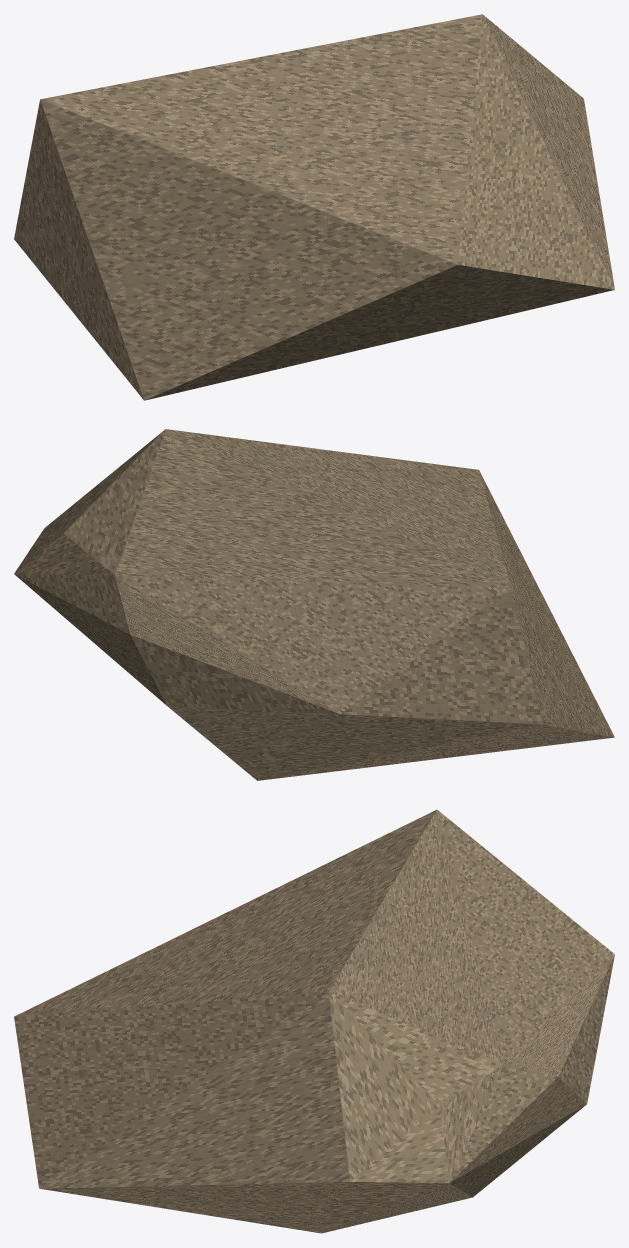
The model's file is rock_large.glb.
The picture shows the model from 3 angles, top to bottom: view 1: azimuth 30°, elevation 25°; view 2: azimuth 150°, elevation 25°; view 3: azimuth 270°, elevation 25°; orthographic projection. The views are drawn at different scales.
Visible parts, largest first — view 1: block_rock; view 2: block_rock; view 3: block_rock.
Boxes of the visible parts, box(x1,y1,x2,y2) form: block_rock: box(14, 14, 614, 400); block_rock: box(14, 429, 614, 780); block_rock: box(14, 809, 614, 1233).
Size of the model in its own units: 0.2575 by 0.1253 by 0.2294.
1 material, 1 textured.
